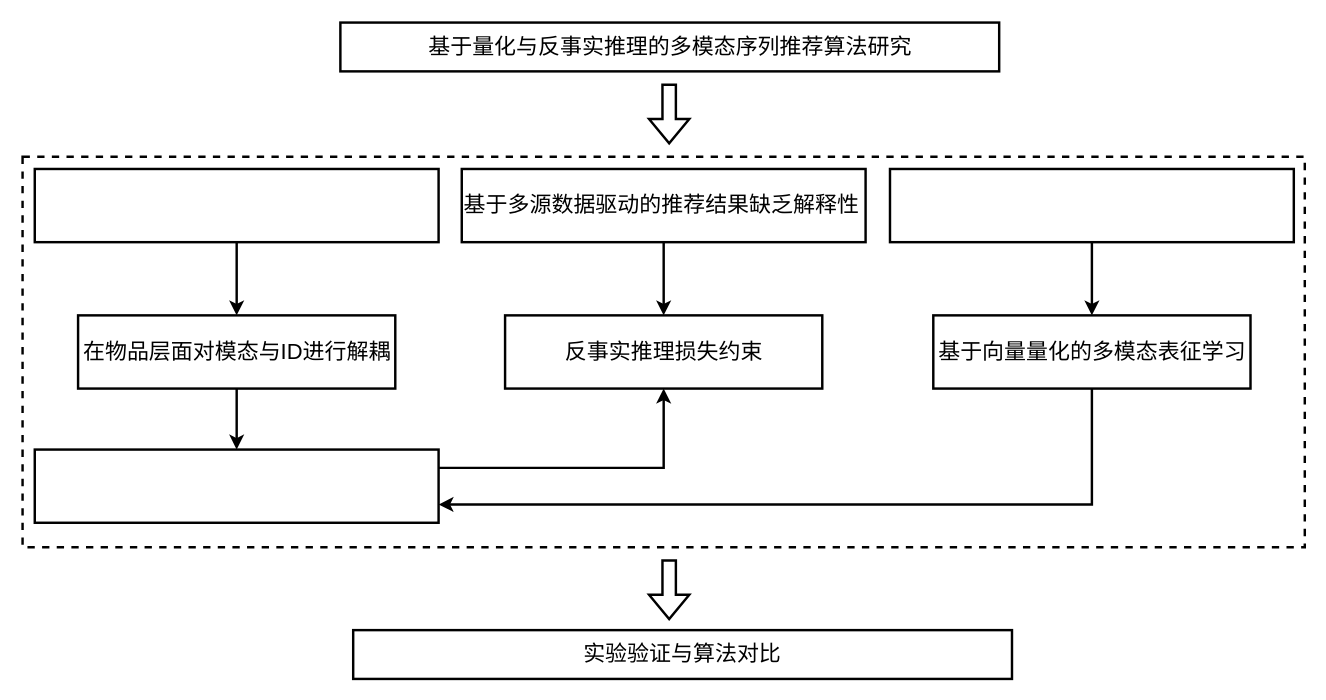
Some shapes in this 1326 by 700 pixel diagram are drawn without their labels. Here are the shapes that lost their labels. From the top down, the centre of each, then its label:
point (236, 205): 多模态信息与ID信息之间的相互干扰问题
point (1091, 205): 物品与模态表征强绑定问题
point (236, 485): 使用不同的主干模型建模不同层面的序列特征
